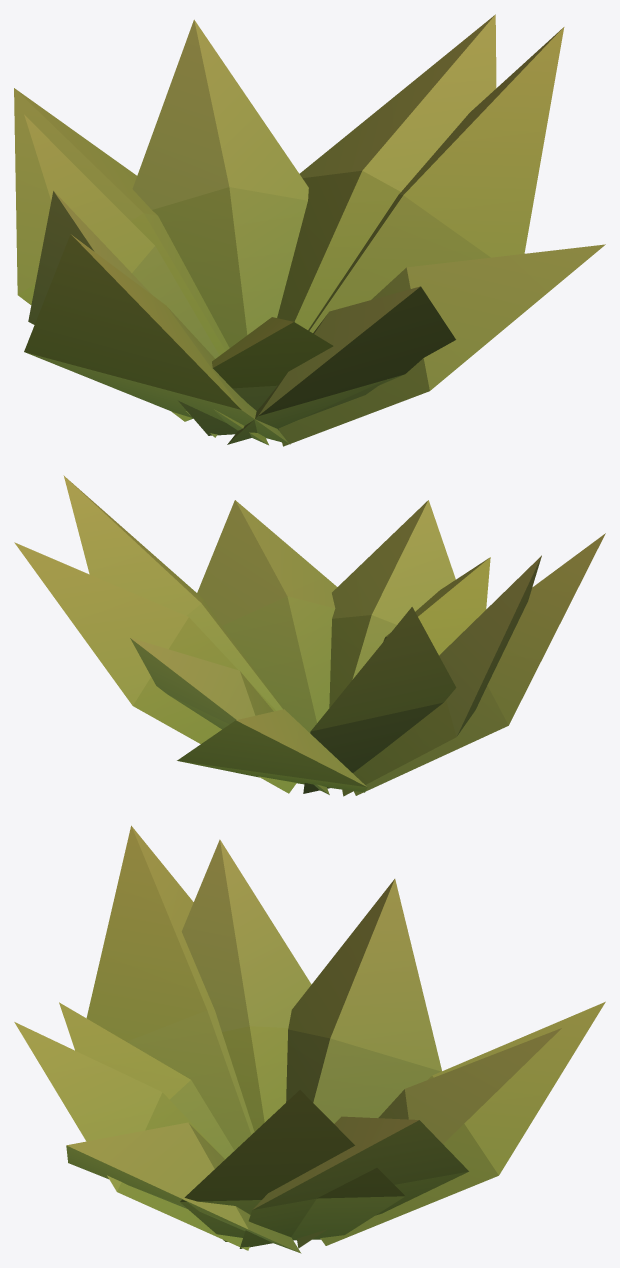
The model's file is plant_grass_low_v3.fbx.
3 renders of one model, top to bottom at view 1: azimuth 30°, elevation 25°; view 2: azimuth 150°, elevation 25°; view 3: azimuth 270°, elevation 25°, orthographic. The views are drawn at different scales.
Visible parts, largest first — view 1: plant_grass_low_v3; view 2: plant_grass_low_v3; view 3: plant_grass_low_v3.
Part boxes in pixels (x1,y1,x2,y2): plant_grass_low_v3: (14, 14, 605, 446); plant_grass_low_v3: (14, 475, 605, 796); plant_grass_low_v3: (14, 825, 605, 1253).
Size of the model in its own units: 243 by 122 by 233.
